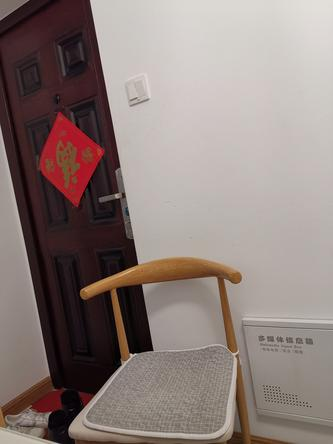switch: (140, 79, 151, 103), (128, 83, 138, 101)
